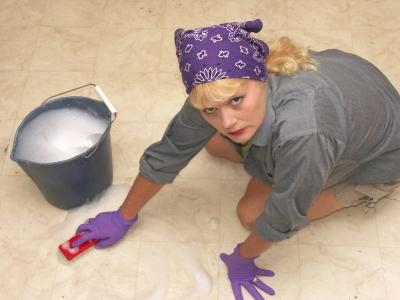person: (69, 18, 400, 300)
